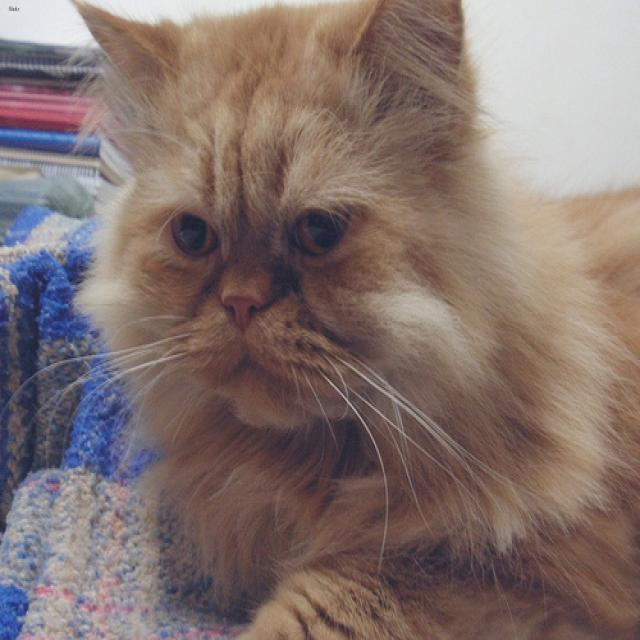Persian: (71, 0, 490, 437)
